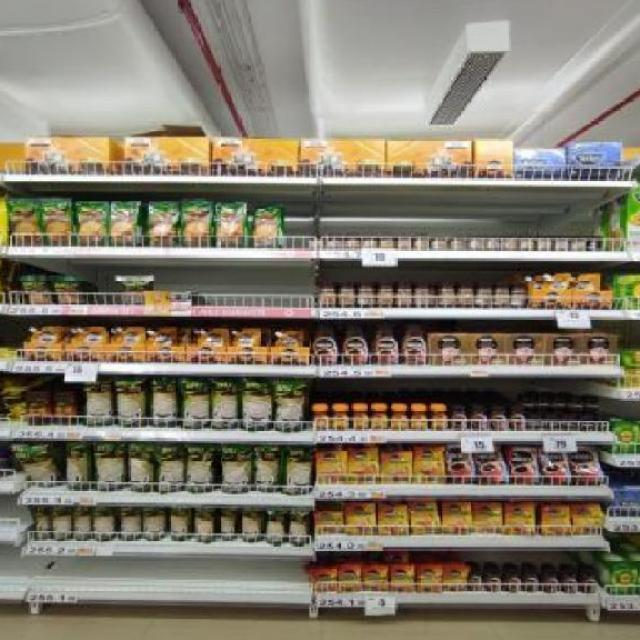Coffee: (474, 446, 509, 484), (539, 448, 571, 486), (413, 447, 445, 484), (312, 322, 339, 365), (447, 444, 476, 484), (570, 446, 600, 484), (509, 447, 539, 484), (402, 323, 428, 365), (372, 323, 397, 366), (348, 449, 378, 484), (506, 502, 536, 537), (344, 323, 369, 365), (381, 451, 413, 483), (409, 501, 441, 533), (316, 450, 347, 483), (346, 503, 377, 536), (442, 500, 472, 534), (472, 502, 502, 534), (542, 504, 572, 535), (572, 503, 602, 533), (379, 506, 409, 536), (314, 512, 344, 536), (389, 568, 414, 593), (363, 567, 387, 592), (417, 567, 441, 592), (443, 567, 467, 591), (339, 568, 361, 593), (311, 570, 336, 592), (390, 406, 408, 431), (311, 406, 330, 429), (430, 407, 448, 431), (332, 404, 349, 429), (410, 404, 427, 429), (351, 406, 369, 429), (490, 406, 506, 431), (451, 404, 467, 429), (471, 406, 487, 431), (371, 406, 388, 429), (561, 571, 578, 594), (483, 571, 501, 592), (581, 571, 597, 594), (521, 571, 538, 592), (504, 572, 521, 592), (510, 407, 524, 431), (542, 571, 558, 592), (469, 570, 482, 591), (538, 396, 553, 411), (561, 414, 575, 430), (544, 414, 557, 430), (529, 414, 542, 430), (580, 417, 594, 431), (571, 398, 584, 411), (556, 397, 568, 411), (596, 416, 608, 429), (586, 398, 598, 411), (523, 397, 533, 409)
